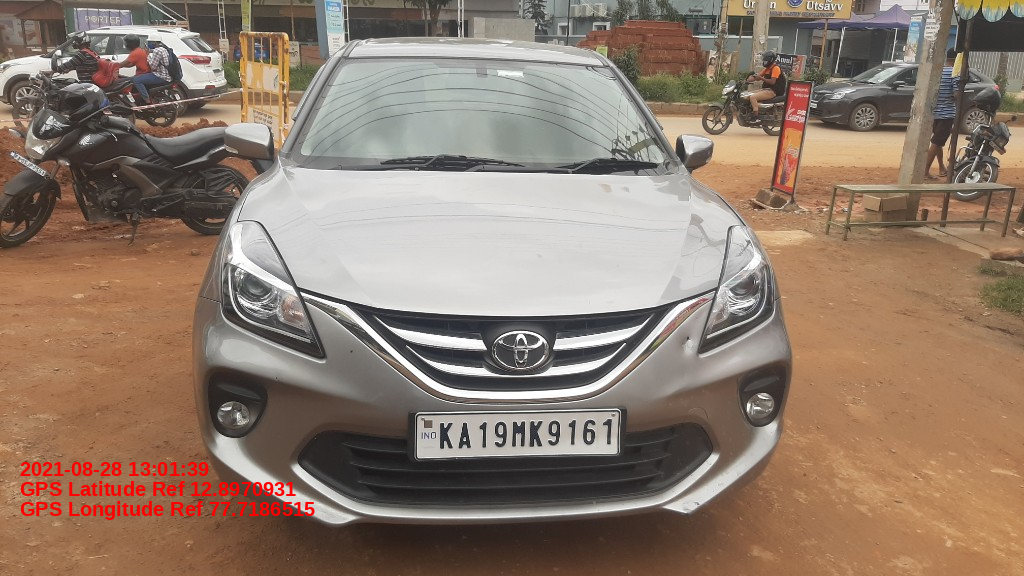Cracked: (681, 402, 716, 429)
Pressed: (676, 325, 703, 357)
Scratched: (674, 488, 707, 518)
